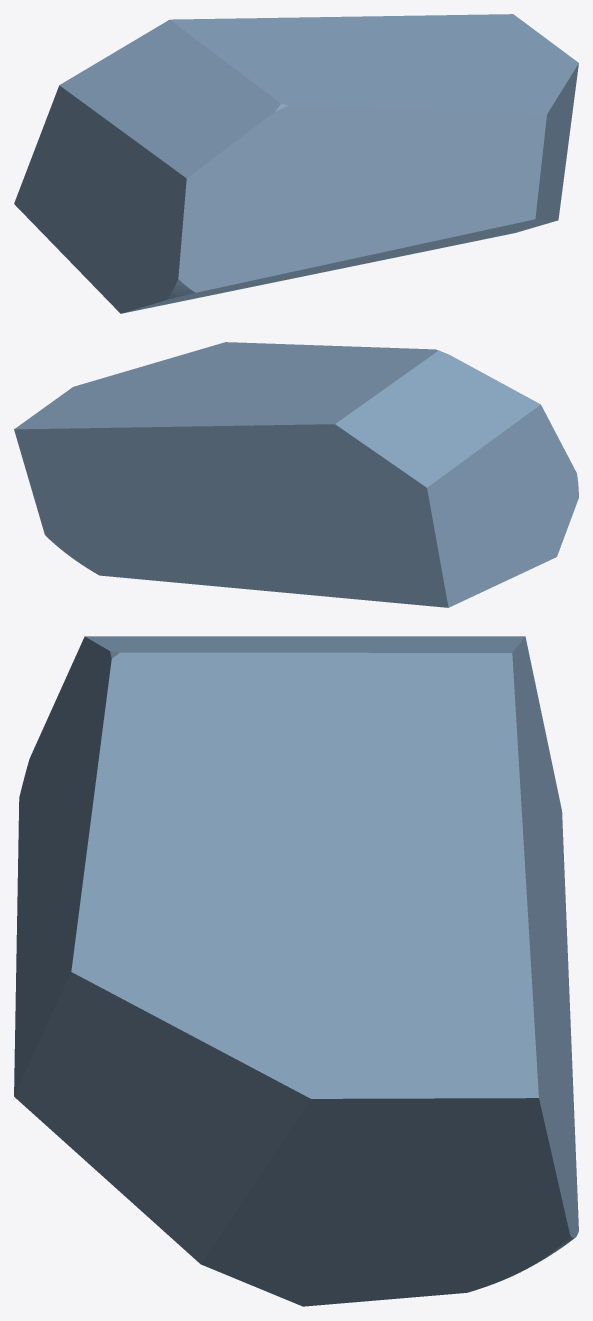
File: rock.fbx
3 views of the same model, one above another, from view 1: azimuth 30°, elevation 25°; view 2: azimuth 150°, elevation 25°; view 3: azimuth 270°, elevation 25° (orthographic). The views are drawn at different scales.
Visible parts, largest first — view 1: Cube; view 2: Cube; view 3: Cube.
Part boxes in pixels (x1,y1,x2,y2): Cube: (14, 14, 578, 313); Cube: (14, 342, 578, 607); Cube: (14, 636, 578, 1306).
Size of the model in its own units: 396 by 181 by 224.
